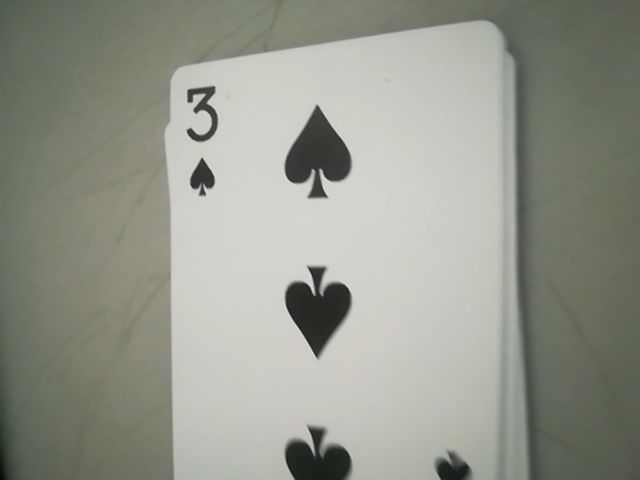ht 3: (166, 82, 249, 204)
